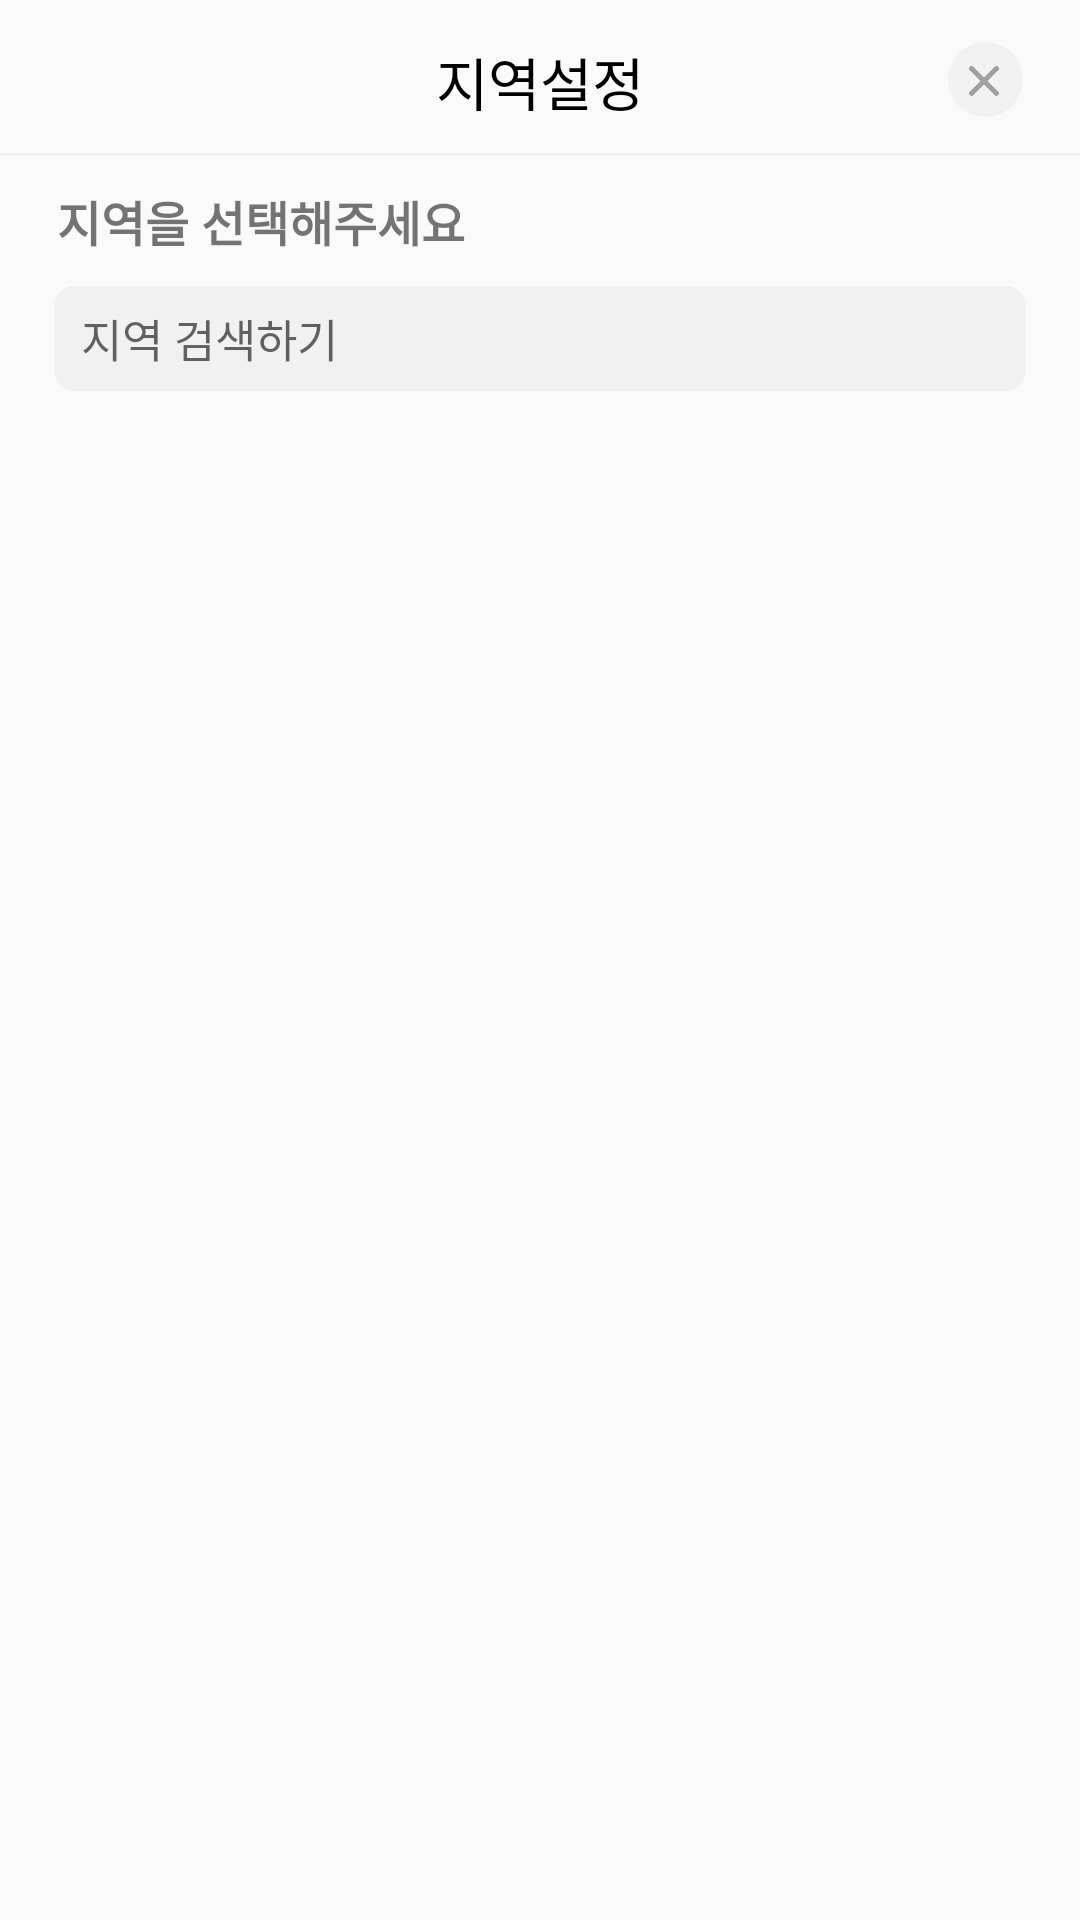

Locate icon controls on the screen. Image size 1080px×1920px, boxes as (x1, y1, x2, y2).
cancel: (969, 66, 999, 96)
